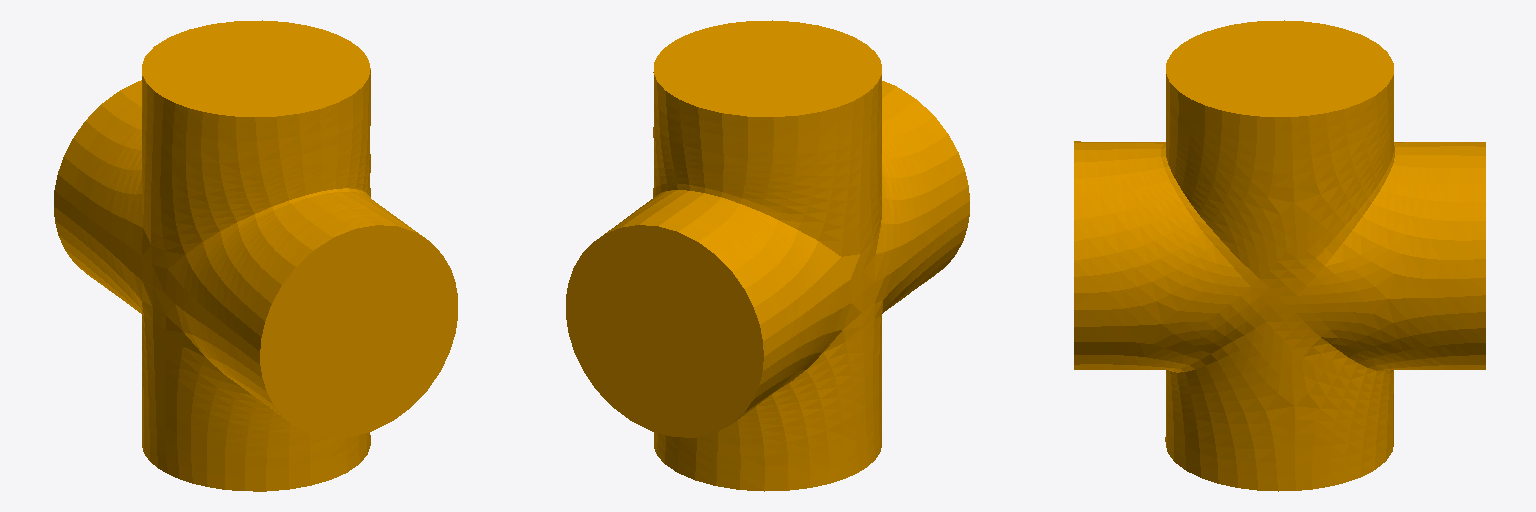
robot.urdf — object:
<robot name="object">
  <link name="object">
    <visual>
      <origin xyz="0 0 0"/>
      <geometry>
        <mesh filename="visual.obj" scale="1 1 1"/>
      </geometry>
    </visual>
    <collision>
      <origin xyz="0 0 0"/>
      <geometry>
        <mesh filename="visual.obj" scale="1 1 1"/>
      </geometry>
    </collision>
    <inertial>
      <mass value="0.05"/>
      <inertia ixx="5.588484304447832e-05" iyy="3.729733851109967e-05" izz="3.729581999420785e-05" ixy="-3.372457611667049e-09" ixz="-3.6957252307000405e-09" iyz="2.5323584487171285e-09"/>
    </inertial>
  </link>
</robot>

--- What the picture shows (computed from the rendered views, not written in the file) ---
The picture shows the robot from 3 angles, left to right: view 1: azimuth 30°, elevation 25°; view 2: azimuth 150°, elevation 25°; view 3: azimuth 270°, elevation 25°; orthographic projection.
Model object with 1 links and 0 joints (none), rooted at object, posed all joints at 0.
Links seen in each view (by area): view 1: object; view 2: object; view 3: object.
Link boxes in pixels (box(x1,y1,x2,y2)): object: box(54, 20, 457, 491); object: box(566, 20, 969, 491); object: box(1074, 20, 1485, 491).
Bounding box of the posed robot: 0.0533 × 0.096 × 0.096 m (x, y, z).
Meshes: 1 distinct files referenced, 1 mesh visuals loaded (1 OBJ).
